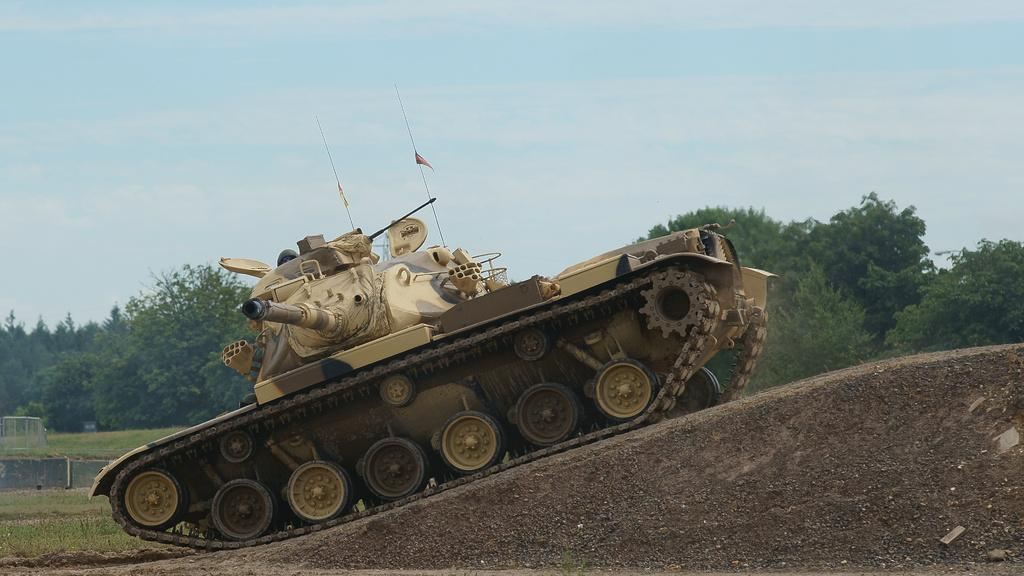Tank: (88, 84, 783, 550)
